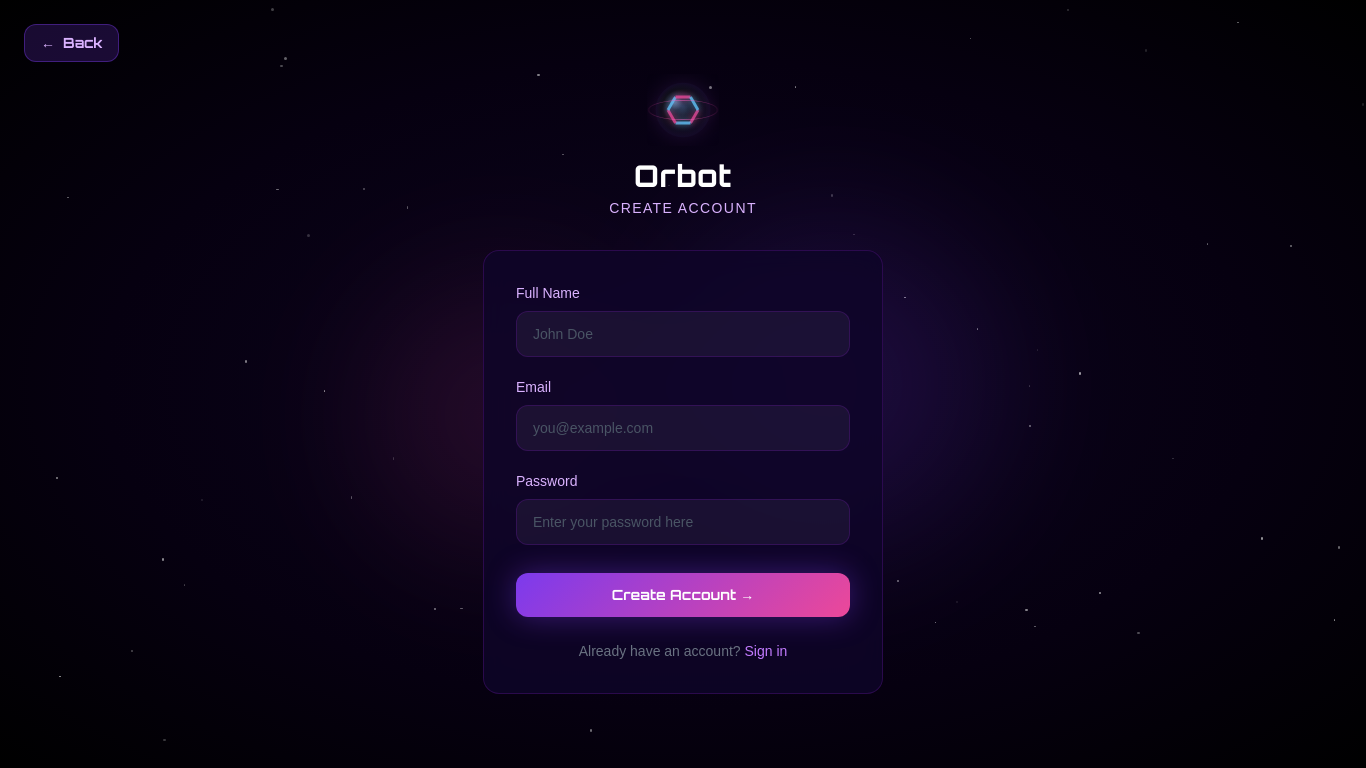
Test: Register Page › shows loading state while creating account
In the field with placeholder "John Doe": [683, 334] box [516,311,850,357], type "John"
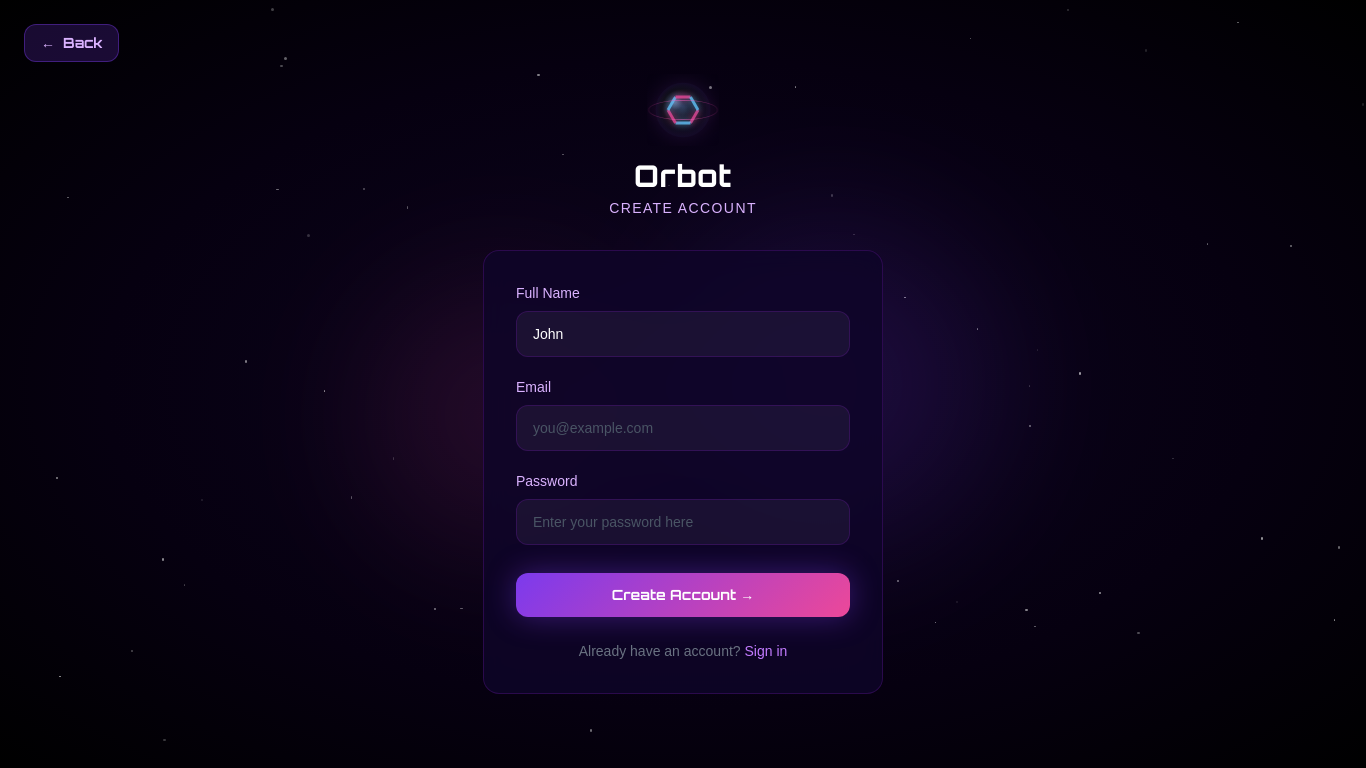
In the field with placeholder "you@example.com": [683, 428] box [516,405,850,451], type "john@email.com"
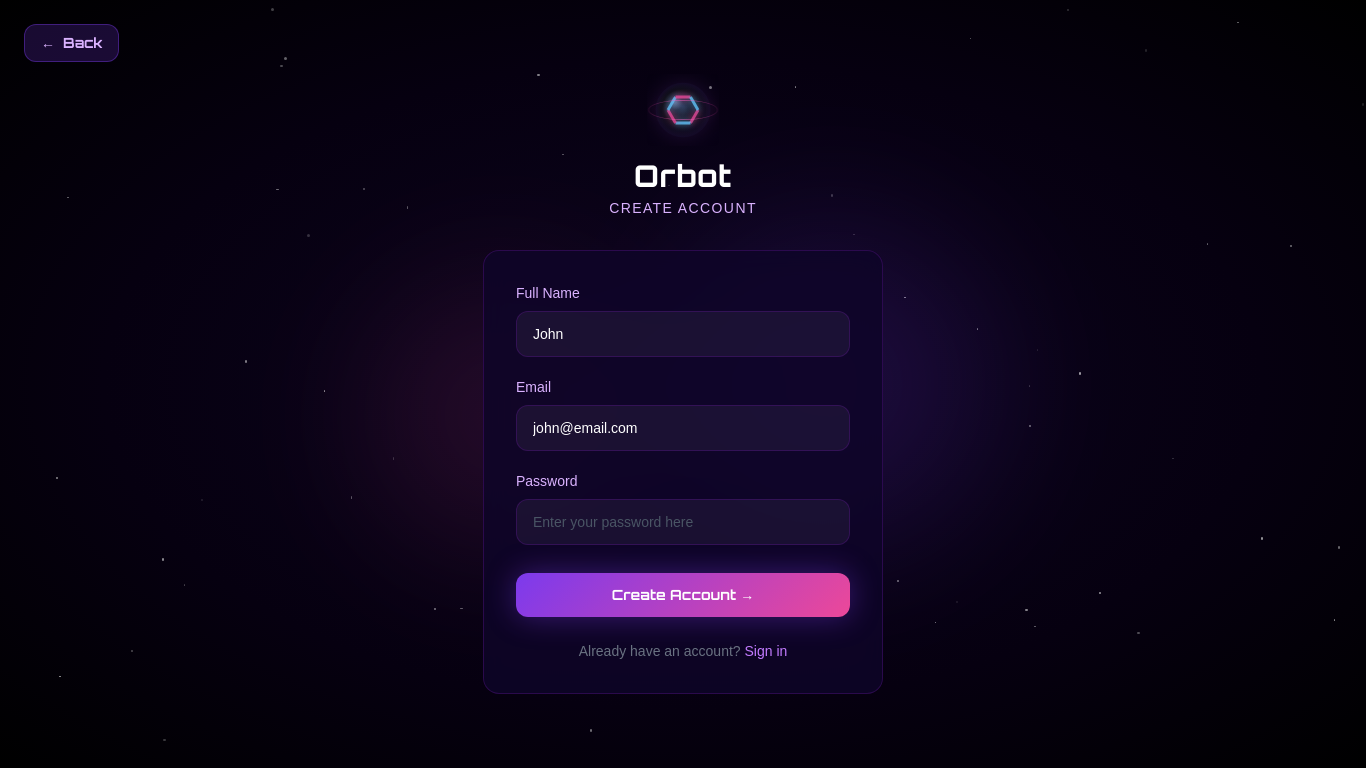
In the password field with placeholder "Enter your password here": [683, 522] box [516,499,850,545], type "password123"
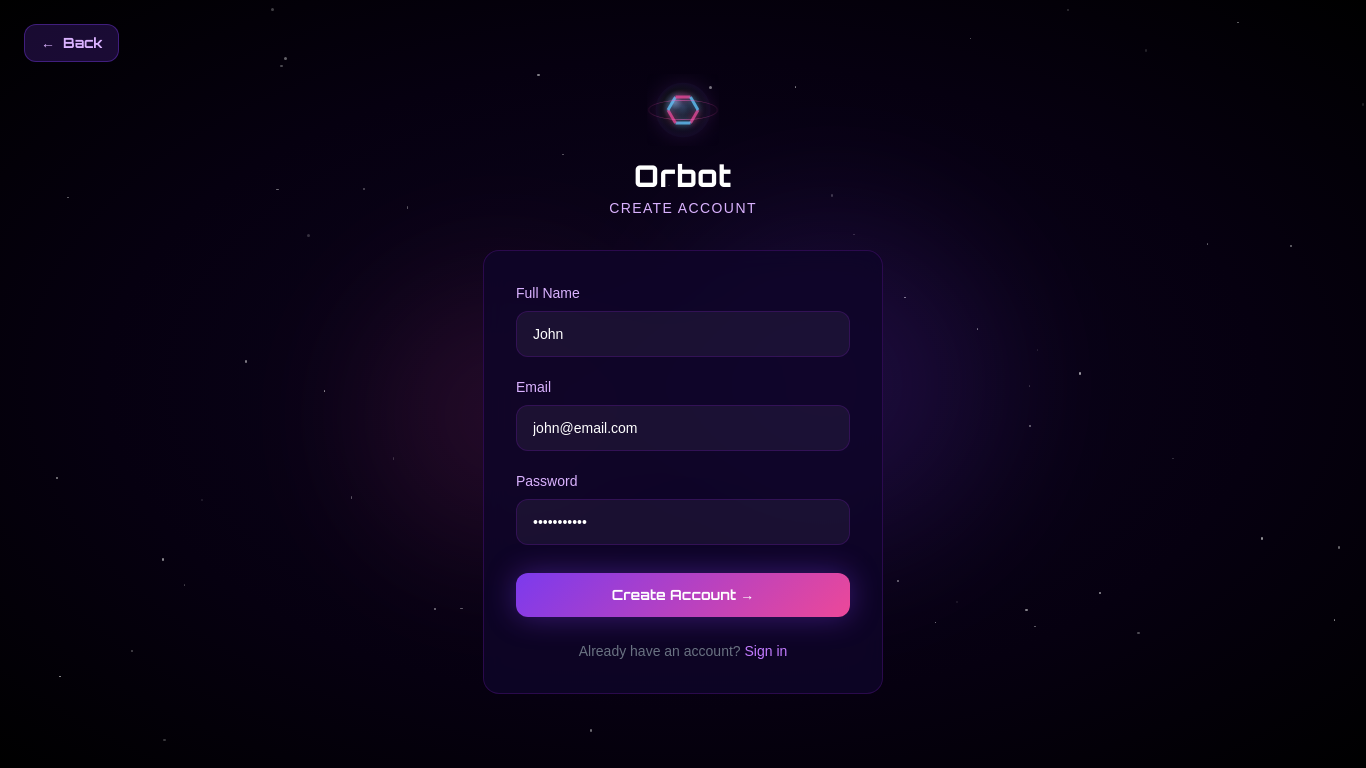
Click the button "Create Account →": [683, 595] box [516,573,850,617]
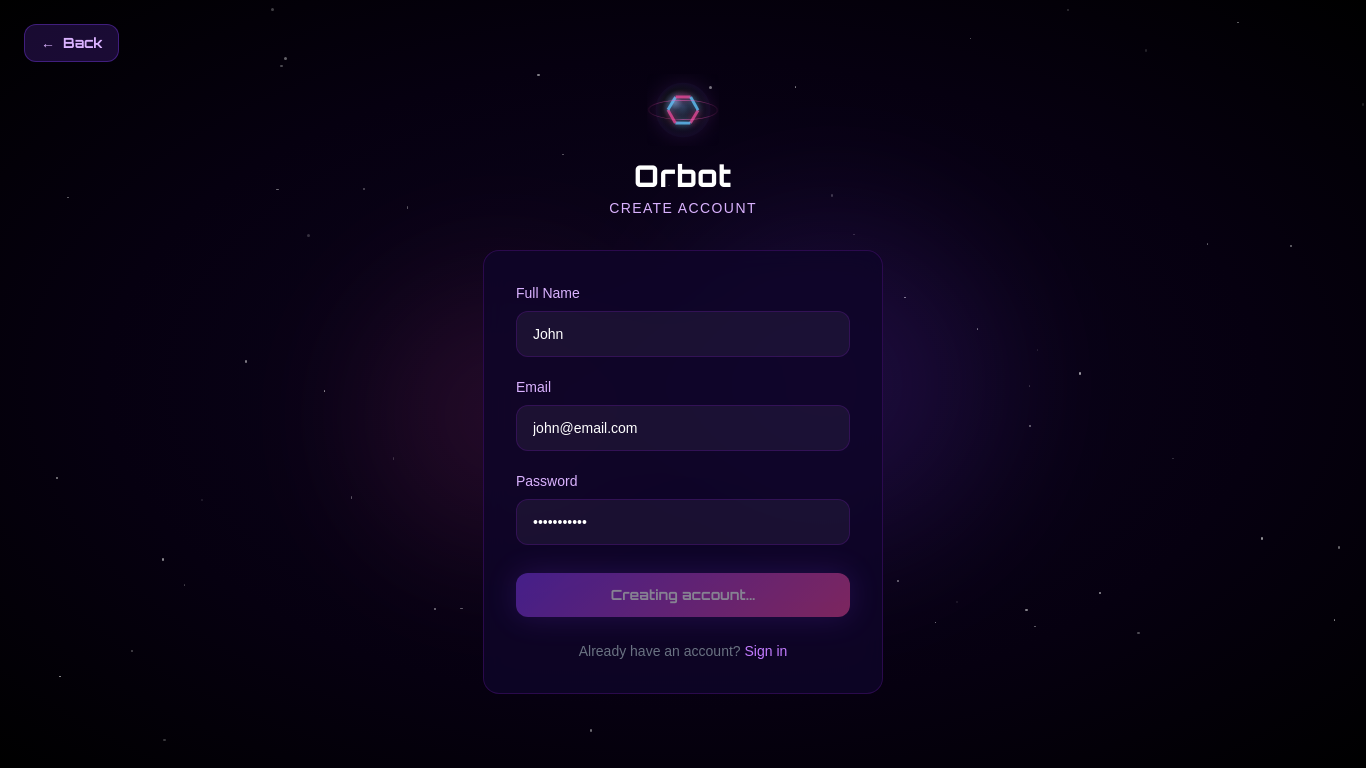
Now the button "Creating account..." is shown, box [516,573,850,617]
